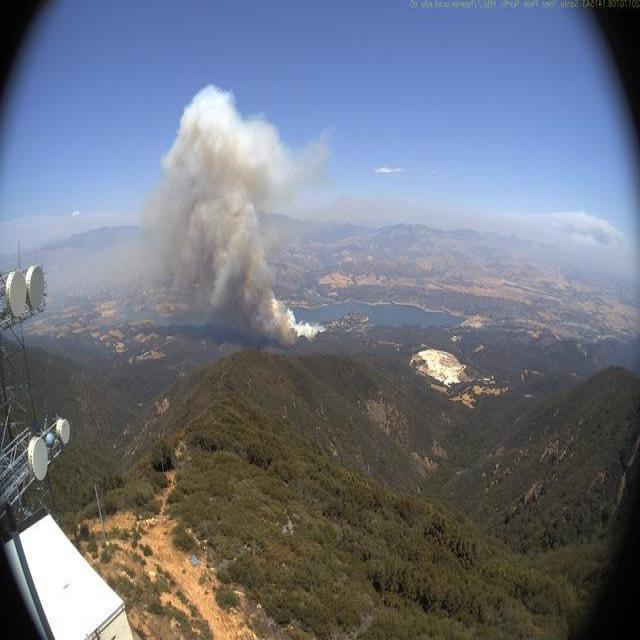Smoke: (134, 82, 333, 346)
